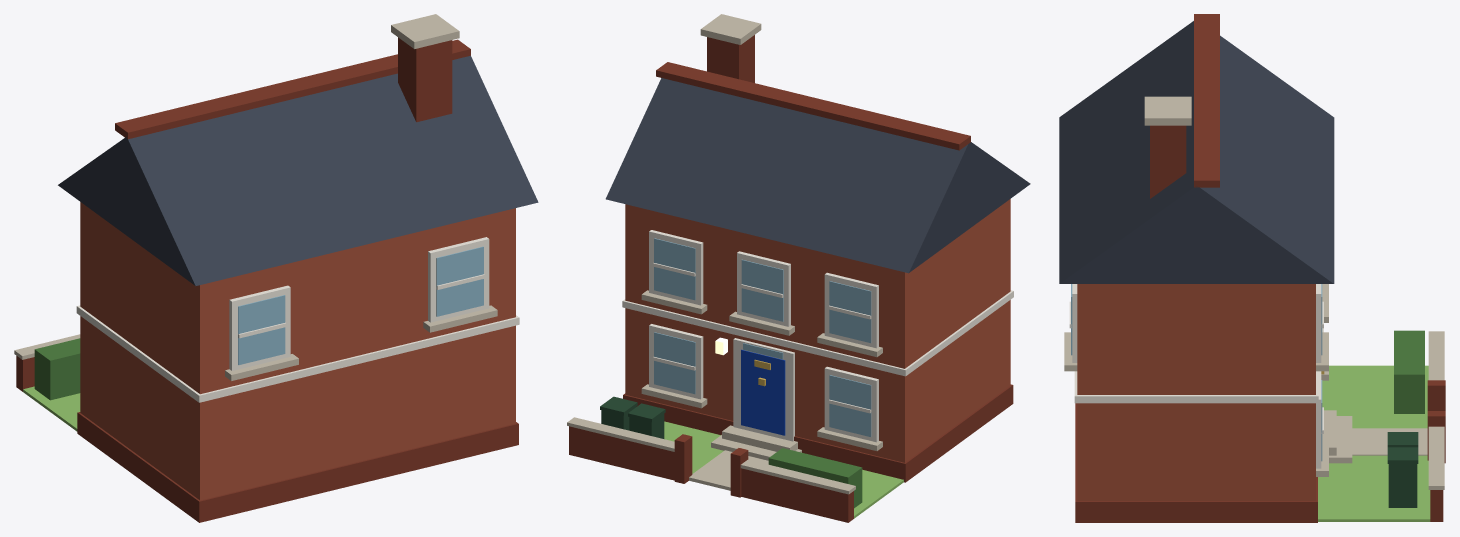
The model's file is player-house.glb.
3 renders of one model, left to right at view 1: azimuth 30°, elevation 25°; view 2: azimuth 150°, elevation 25°; view 3: azimuth 270°, elevation 25°, orthographic. The views are drawn at different scales.
Visible parts, largest first — view 1: walls, roof, plinth, ridge, band, chimney, win_b0_glass, win_b1_glass, hedge_l, win_b1_frame, win_b0_frame, chimney_cap (+3 smaller); view 2: roof, walls, ridge, plinth, wall_l, door, band, wall_r, lawn, win_f1_glass, win_g0_glass, win_f0_glass (+24 smaller); view 3: roof, walls, lawn, plinth, ridge, hedge_l, band, chimney, chimney_cap, path, bin1, cap_r (+10 smaller).
Part boxes in pixels (left/top/right/bottom): walls: left=80, top=202, right=515, bottom=500; roof: left=58, top=55, right=538, bottom=285; plinth: left=77, top=412, right=518, bottom=522; ridge: left=115, top=39, right=470, bottom=139; band: left=76, top=305, right=519, bottom=402; chimney: left=398, top=37, right=452, bottom=122; win_b0_glass: left=238, top=295, right=285, bottom=365; win_b1_glass: left=436, top=246, right=483, bottom=316; hedge_l: left=34, top=338, right=80, bottom=400; win_b1_frame: left=428, top=237, right=489, bottom=322; win_b0_frame: left=229, top=285, right=290, bottom=370; chimney_cap: left=391, top=14, right=459, bottom=48; roof: left=605, top=78, right=1030, bottom=273; walls: left=625, top=199, right=1010, bottom=462; ridge: left=656, top=62, right=970, bottom=150; plinth: left=623, top=384, right=1013, bottom=482; wall_l: left=741, top=468, right=853, bottom=522; door: left=741, top=349, right=785, bottom=435; band: left=622, top=290, right=1013, bottom=376; wall_r: left=569, top=426, right=674, bottom=480; lawn: left=664, top=421, right=903, bottom=518; win_f1_glass: left=741, top=259, right=783, bottom=321; win_g0_glass: left=829, top=375, right=871, bottom=436; win_f0_glass: left=829, top=281, right=871, bottom=343; roof: left=1059, top=21, right=1334, bottom=283; walls: left=1077, top=284, right=1315, bottom=500; lawn: left=1318, top=365, right=1430, bottom=521; plinth: left=1075, top=403, right=1317, bottom=522; ridge: left=1194, top=14, right=1219, bottom=187; hedge_l: left=1394, top=330, right=1424, bottom=413; band: left=1074, top=371, right=1318, bottom=403; chimney: left=1150, top=125, right=1186, bottom=198; chimney_cap: left=1144, top=96, right=1191, bottom=125; path: left=1352, top=428, right=1427, bottom=455; bin1: left=1388, top=464, right=1417, bottom=507; cap_r: left=1428, top=426, right=1444, bottom=489.
Bounding box in the file's own units: 7.6 × 8.35 × 7.45.
